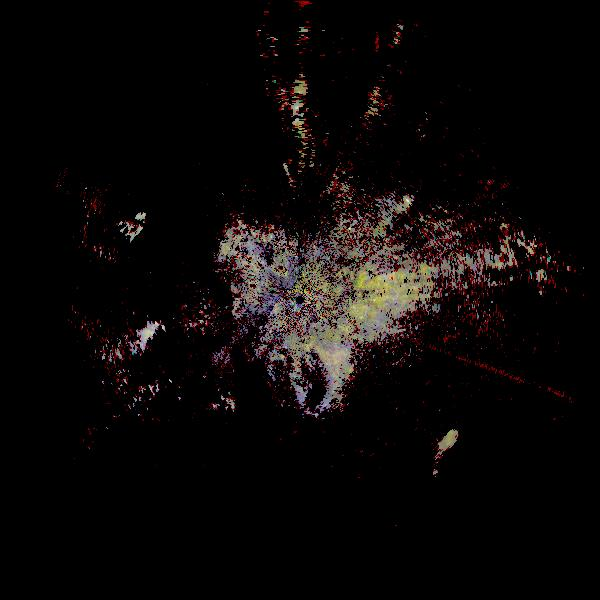roost: (255, 324, 357, 426), (415, 414, 511, 510)
